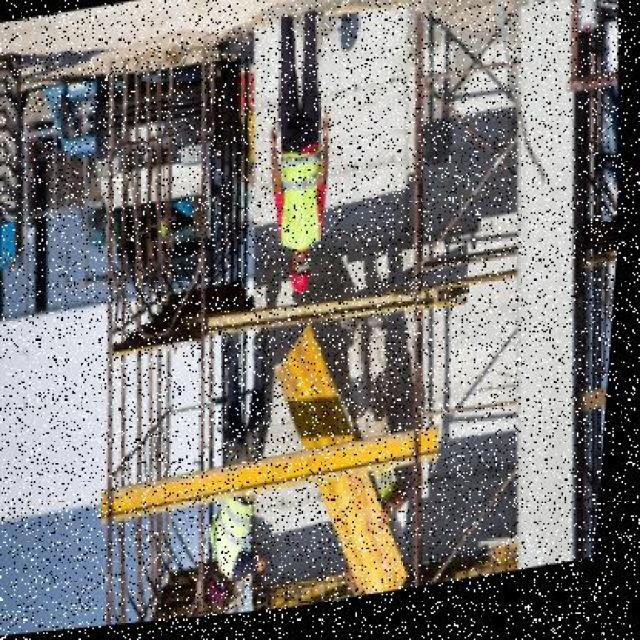helmet: (288, 266, 321, 308)
vest: (274, 151, 332, 269), (215, 497, 263, 591)
